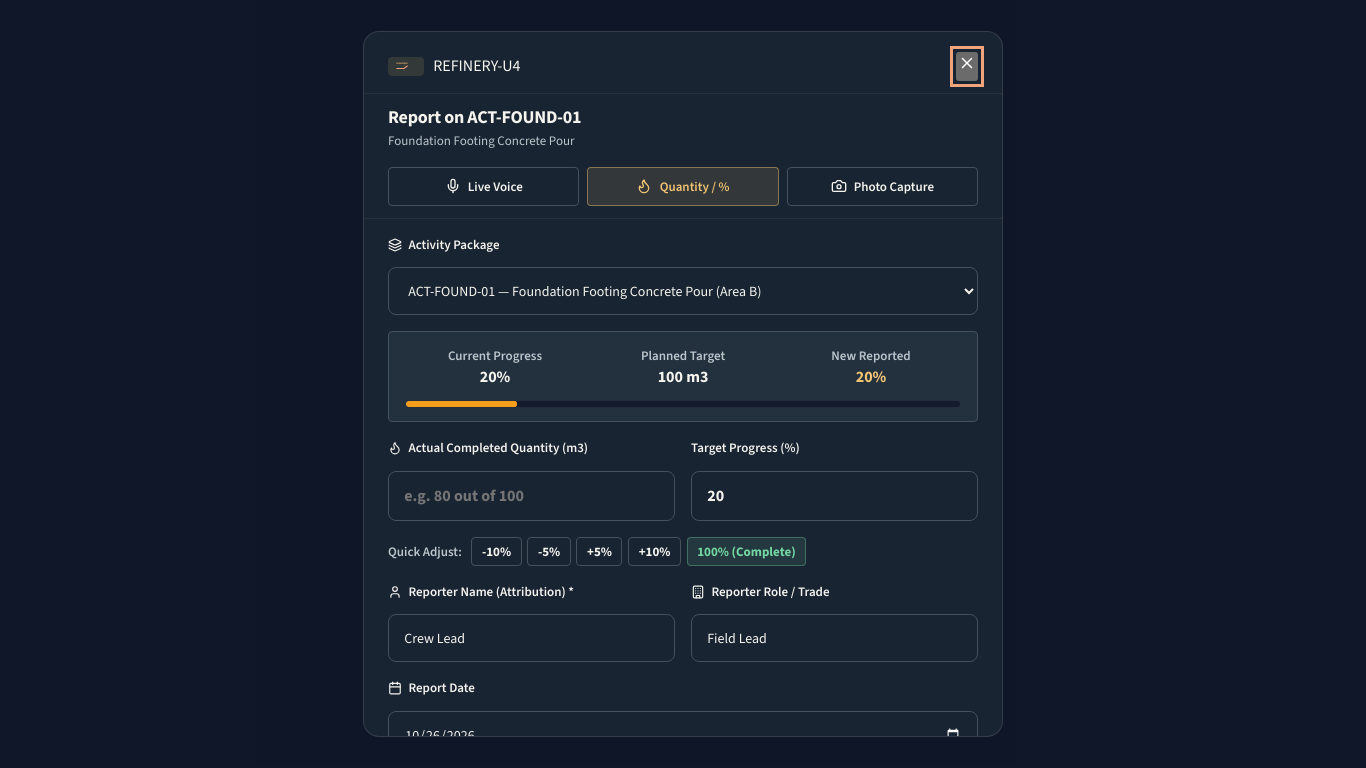
Test: Pass 32 — WorkerReportModal Component Tests › 2. Switches smoothly between Quantity, Voice, and Photo tabs
Expected: the text "Actual Completed Quantity (m3)" is shown, [408,438,588,458]
Note: Click Voice tab
What coordinates should you click on to do the following:
click the button "Live Voice"
I would click on:
 (484, 186)
Its box is [388,167,579,206].
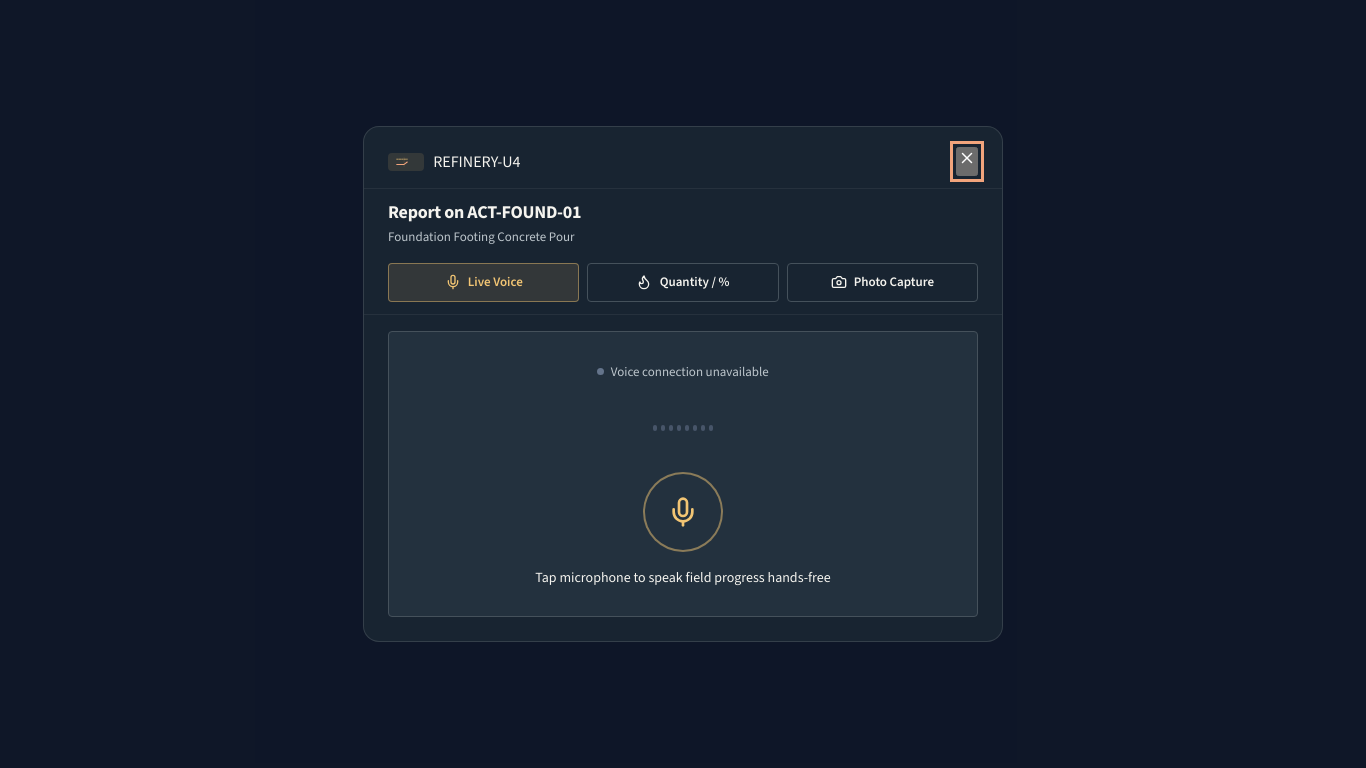
Now the text "Tap microphone to speak field progress hands-free" is shown, box [535,568,831,588]
Now the button named "Start spoken voice session" is shown, box [643,472,723,552]
Note: Click Photo tab
What coordinates should you click on to do the following:
click the button "Photo Capture"
I would click on:
 (882, 282)
Its box is [787,263,978,302].
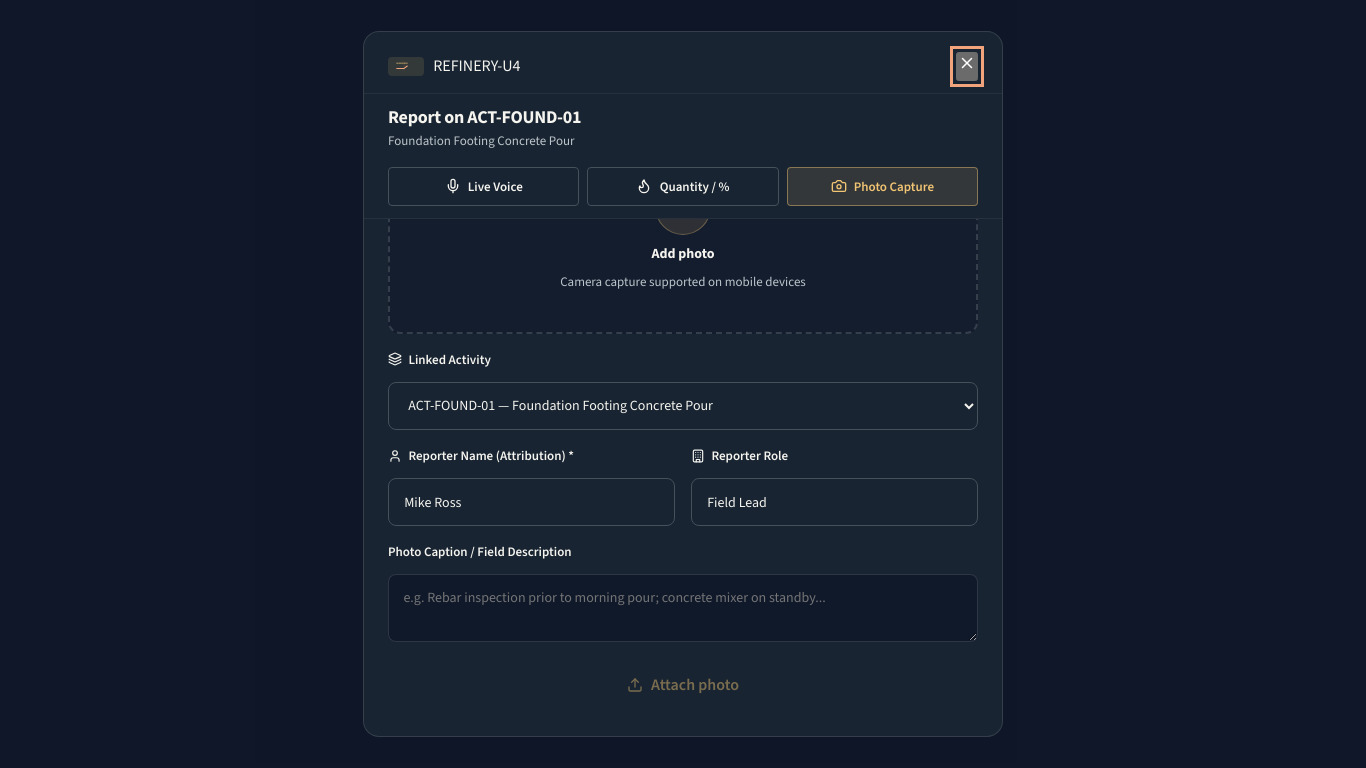
Now the text "Add photo" is shown, box [651,243,715,264]
Now the button "Attach photo" is shown, box [388,658,978,712]
